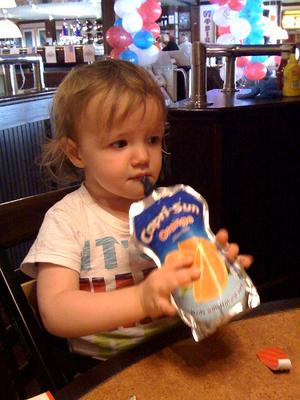person: (18, 57, 255, 385)
